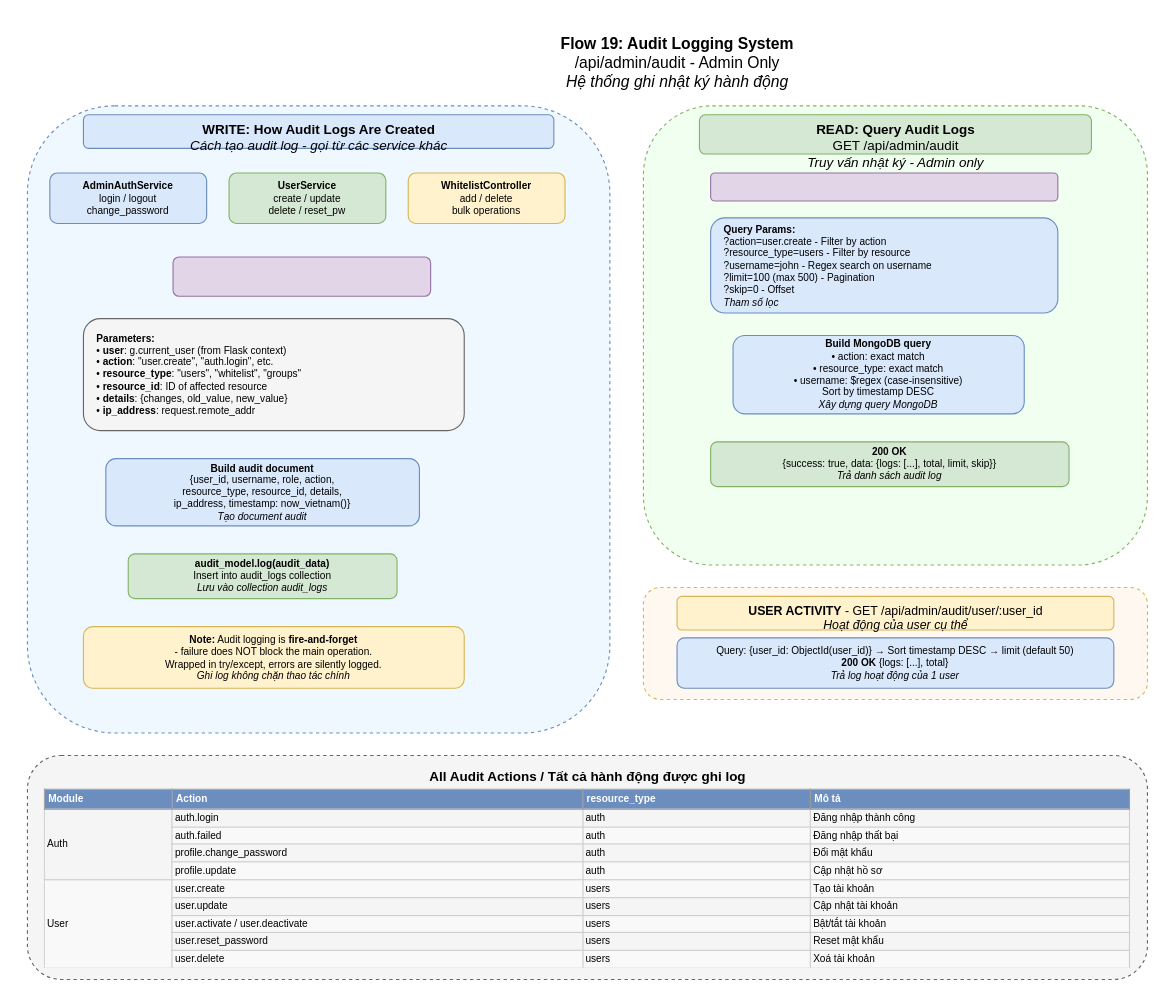
The diagram is 1167 pixels wide and 999 high, and some of its shapes have lost their labels. The box of each missing label's shape, as (x1, y1, x2, y2) in pixels:
@require_login + @require_permission("audit:read"): (710, 172, 1058, 201)
AuditService.log_action() Ghi nhật ký hành động: (172, 256, 431, 296)
